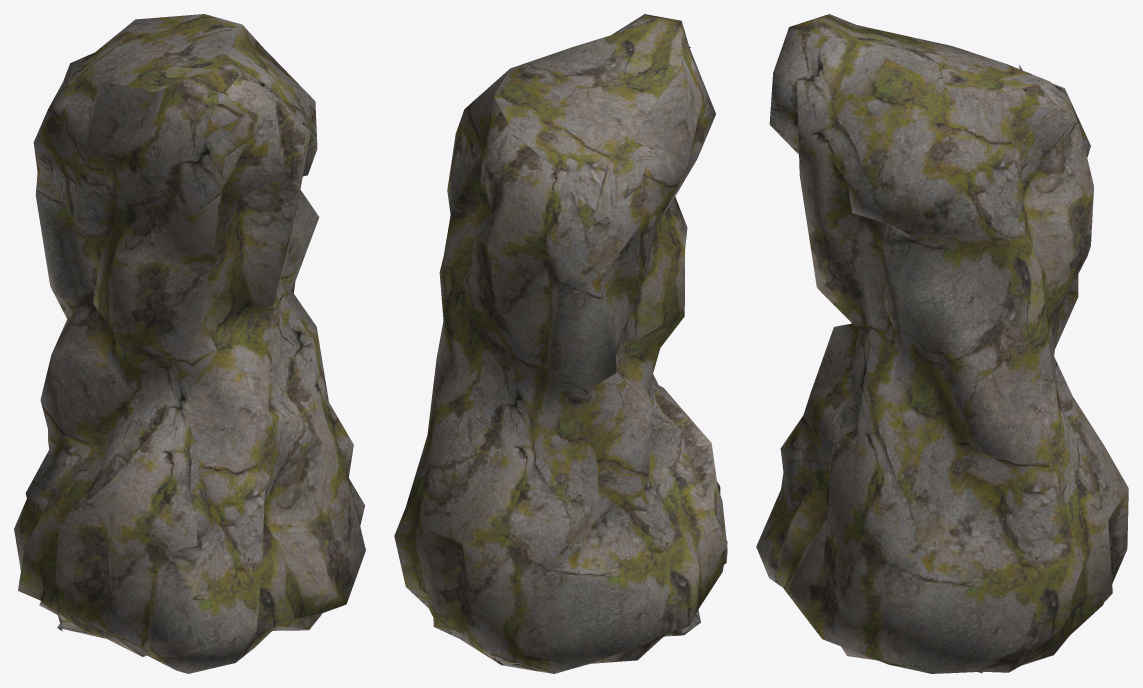
File: rock_scl_1_009.glb
3 views of the same model, side by side, from view 1: azimuth 30°, elevation 25°; view 2: azimuth 150°, elevation 25°; view 3: azimuth 270°, elevation 25° (orthographic). The views are drawn at different scales.
Visible parts, largest first — view 1: rock scl 1.009; view 2: rock scl 1.009; view 3: rock scl 1.009.
Part boxes in pixels (bbox=[...]): rock scl 1.009: bbox=[14, 14, 365, 673]; rock scl 1.009: bbox=[394, 14, 727, 673]; rock scl 1.009: bbox=[756, 14, 1128, 673].
Size of the model in its own units: 6.01 by 11.54 by 6.63.
Materials: 1 (1 with a texture image).
